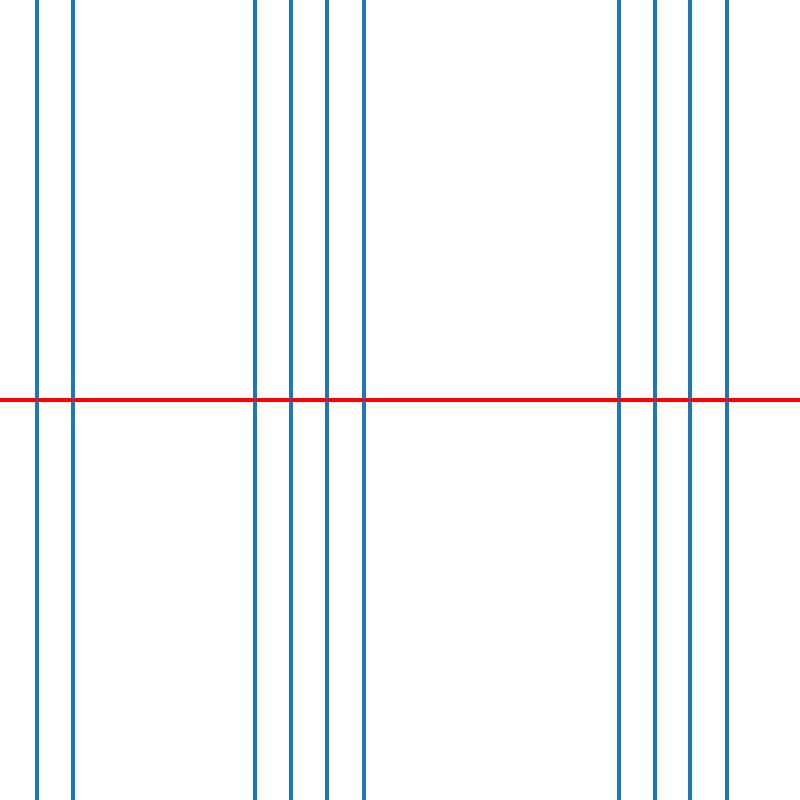root: (250, 396, 258, 404), (32, 396, 40, 404), (650, 396, 658, 404), (723, 396, 730, 404), (360, 396, 367, 404), (687, 396, 694, 404), (614, 396, 621, 404), (323, 396, 330, 404), (287, 396, 294, 404), (69, 396, 76, 404)
